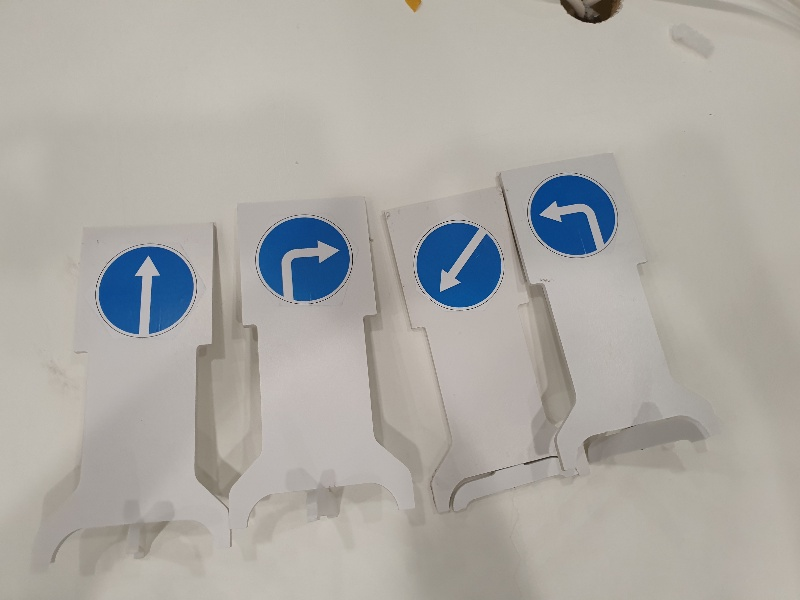Left: (520, 162, 624, 263)
Right: (246, 206, 359, 313)
forw: (89, 239, 202, 346)
prep: (407, 215, 511, 316)
